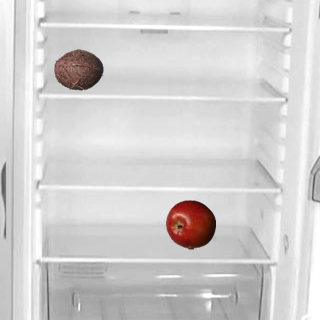Apple Braeburn: (165, 199, 215, 249)
Cocos: (53, 44, 103, 94)
